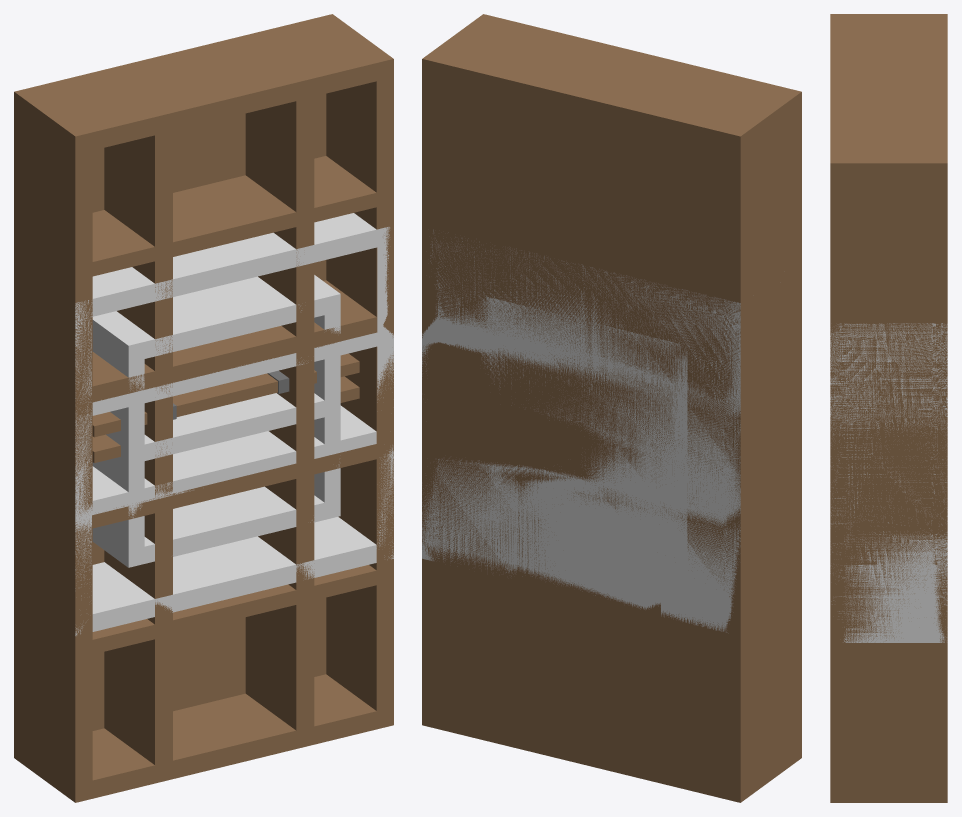
Rendered from Bookshelf Set.fbx.
3 views of the same model, side by side, from view 1: azimuth 30°, elevation 25°; view 2: azimuth 150°, elevation 25°; view 3: azimuth 270°, elevation 25° (orthographic). The views are drawn at different scales.
Parts seen in each view (by area): view 1: Bookshelf_Large, Bookshelf_Tall, Bookshelf_Small, Bookshelf_Mini, Shelf_Wall_3, Shelf_Wall_1; view 2: Bookshelf_Large, Bookshelf_Small, Bookshelf_Tall, Bookshelf_Mini; view 3: Bookshelf_Large, Bookshelf_Small, Bookshelf_Tall.
Boxes of the visible parts, x1,y1,x2,y2 form: Bookshelf_Large: (14, 14, 393, 802); Bookshelf_Tall: (94, 33, 314, 781); Bookshelf_Small: (75, 213, 393, 635); Bookshelf_Mini: (92, 275, 340, 567); Shelf_Wall_3: (92, 353, 359, 437); Shelf_Wall_1: (92, 376, 359, 462); Bookshelf_Large: (422, 14, 801, 802); Bookshelf_Small: (422, 229, 740, 633); Bookshelf_Tall: (501, 34, 718, 783); Bookshelf_Mini: (475, 296, 687, 567); Bookshelf_Large: (830, 14, 947, 802); Bookshelf_Small: (830, 323, 947, 642); Bookshelf_Tall: (830, 51, 947, 125).
Size of the model in its own units: 60 by 120 by 20.
